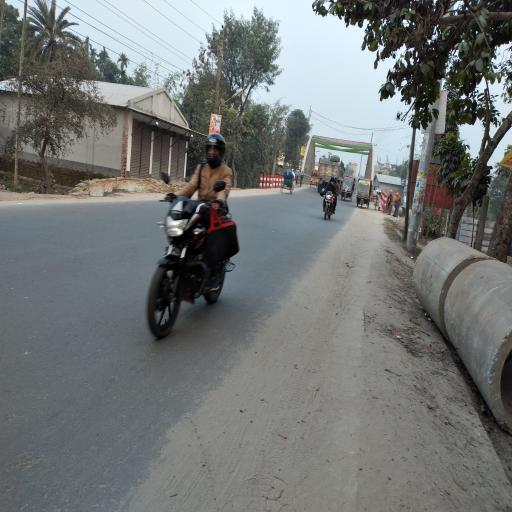auto rickshaw: (357, 178, 373, 212), (341, 175, 354, 203)
bicycle: (375, 190, 385, 214)
motorbike: (141, 115, 247, 352), (321, 176, 341, 222)
rickshaw: (280, 170, 296, 197), (310, 169, 319, 190)
truck: (318, 154, 346, 198)
